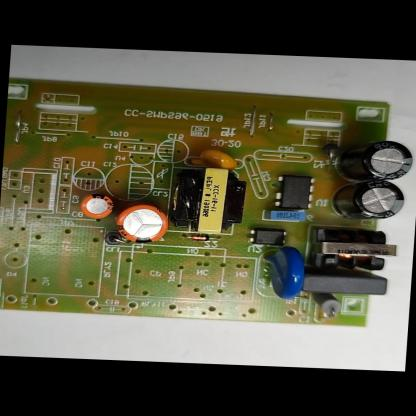Cap1: (111, 203, 173, 247)
Cap2: (77, 193, 115, 220)
Cap3: (330, 180, 408, 222)
Cap4: (333, 137, 416, 181)
MOSFET: (269, 173, 316, 211)
Mov: (254, 246, 309, 303)
Resistor: (309, 294, 342, 318)
Transformer: (171, 166, 249, 234), (309, 228, 402, 274)
